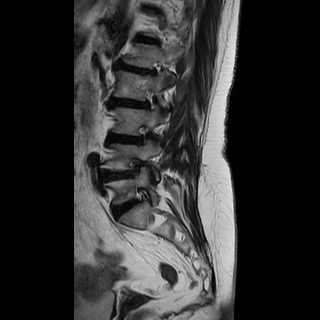LFS2: (131, 119, 155, 151)
LFS3: (125, 154, 149, 186)
